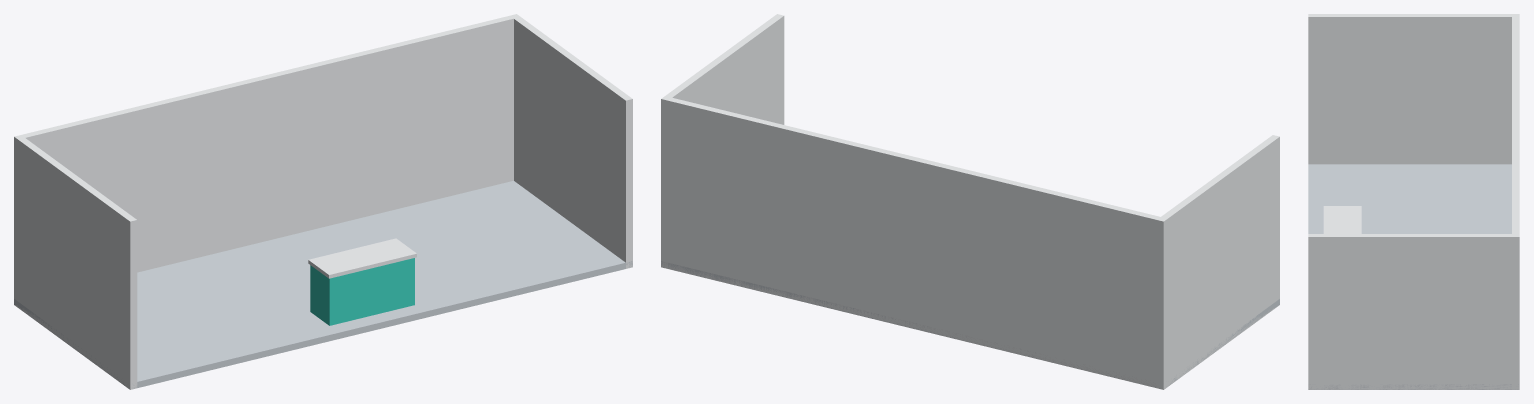
3 renders of one model, left to right at view 1: azimuth 30°, elevation 25°; view 2: azimuth 150°, elevation 25°; view 3: azimuth 270°, elevation 25°, orthographic. The views are drawn at different scales.
Visible parts, largest first — view 1: Exhibition Booth Concept; view 2: Exhibition Booth Concept; view 3: Exhibition Booth Concept.
Boxes of the visible parts, bbox=[...] form: Exhibition Booth Concept: bbox=[14, 14, 632, 389]; Exhibition Booth Concept: bbox=[661, 14, 1279, 389]; Exhibition Booth Concept: bbox=[1308, 14, 1519, 389].
Size of the model in its own units: 10 by 3.2 by 4.
